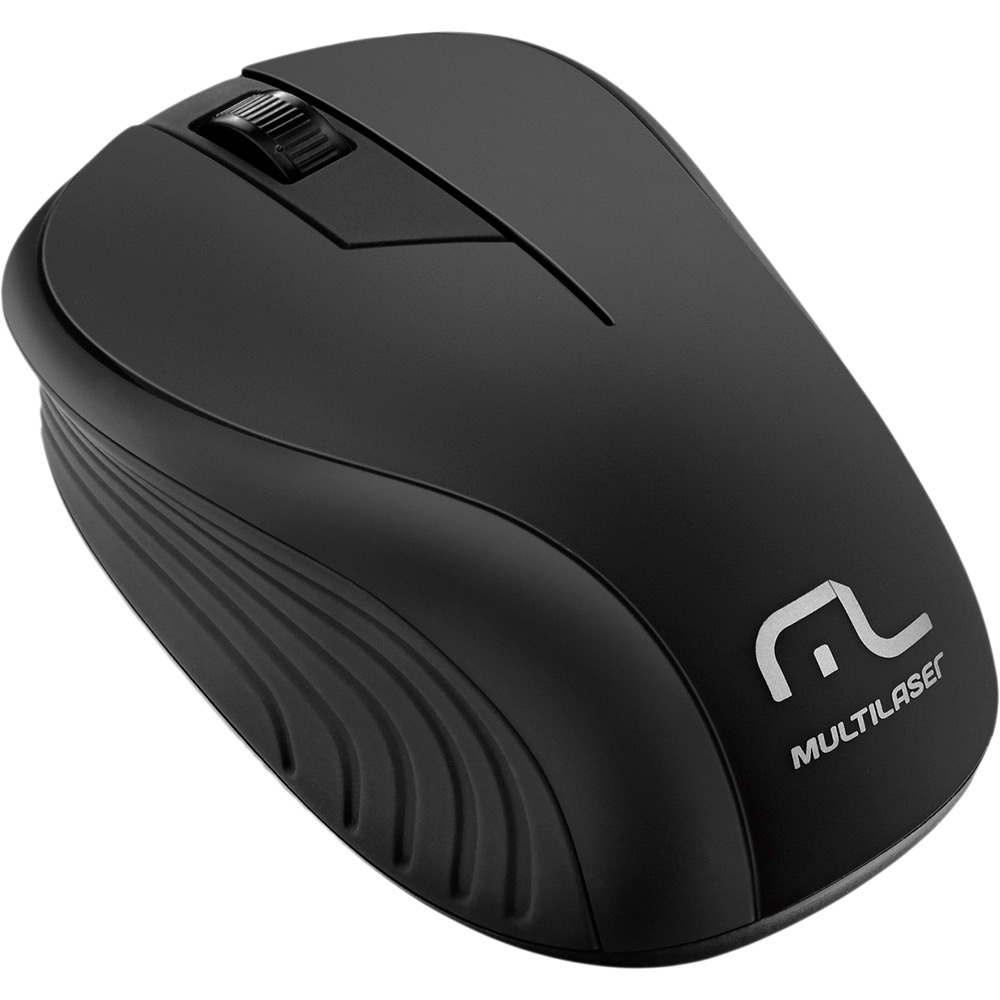mouse: (1, 11, 992, 971)
